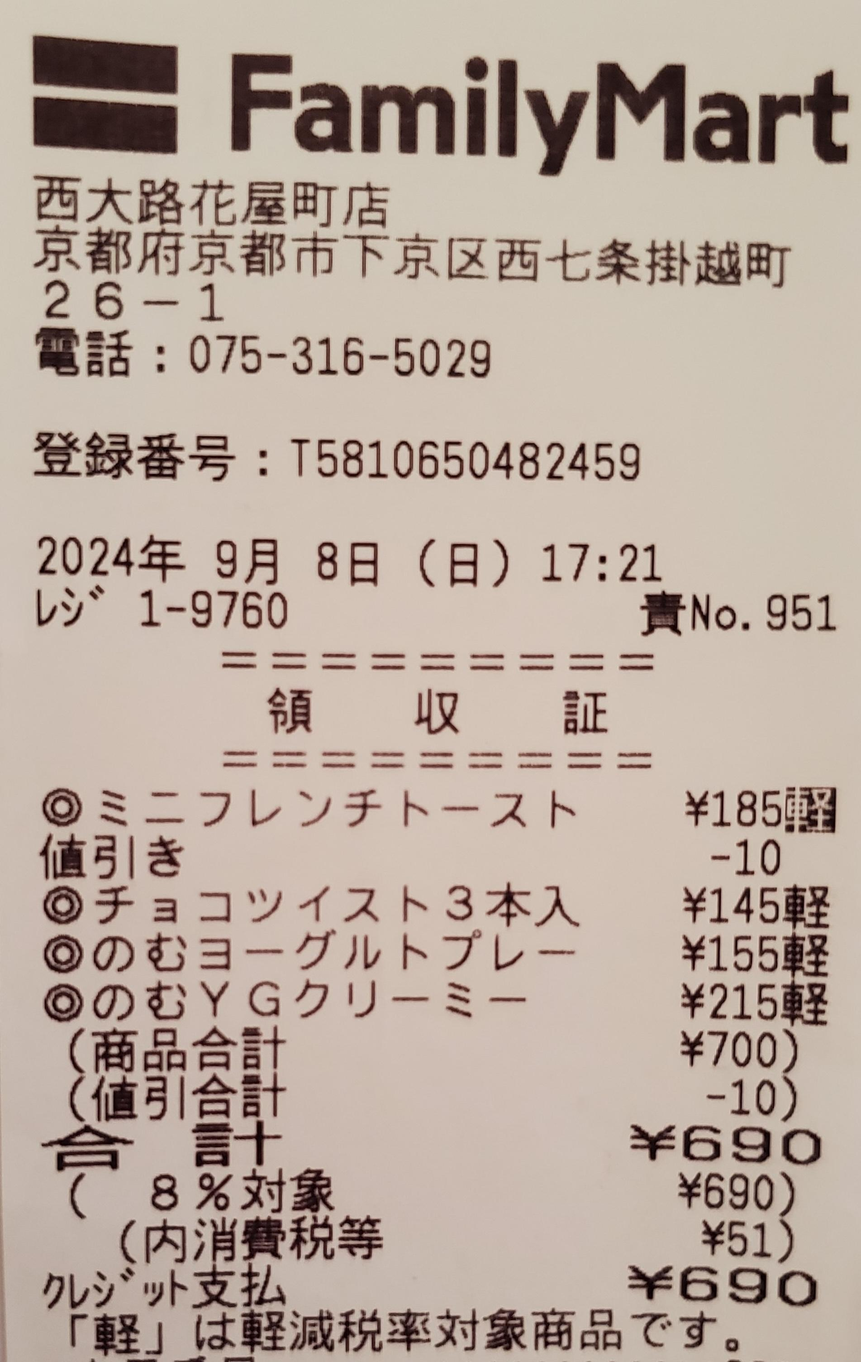TEL: (178, 326, 501, 381)
date: (29, 528, 401, 584)
total: (674, 1114, 827, 1171)
